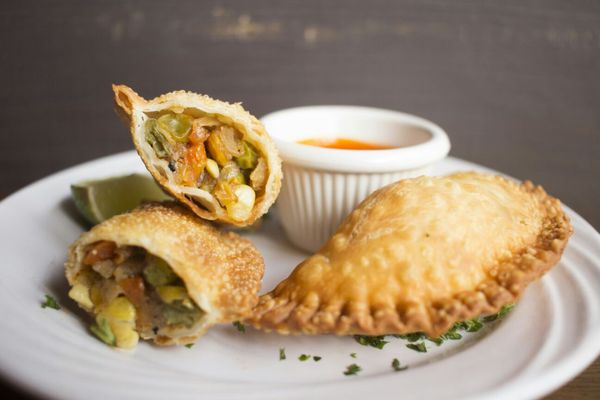pizza: (261, 103, 457, 253)
soup: (63, 203, 266, 349)
